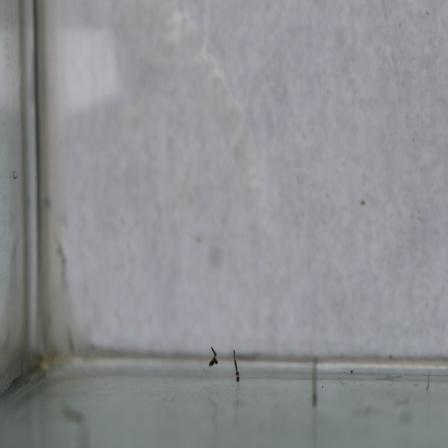Jentik-Nyamuk: (228, 345, 243, 385), (204, 343, 221, 371)
